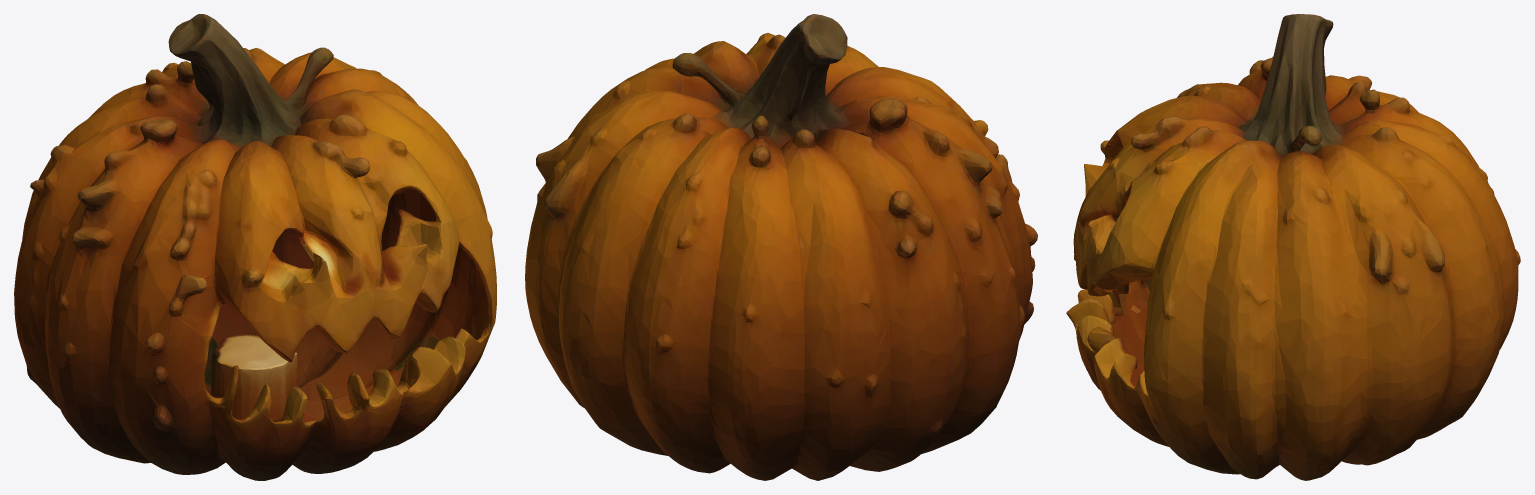
File: pumpkin_jackolantern_big_grin.glb
3 renders of one model, left to right at view 1: azimuth 30°, elevation 25°; view 2: azimuth 150°, elevation 25°; view 3: azimuth 270°, elevation 25°, orthographic. The views are drawn at different scales.
Visible parts, largest first — view 1: geometry_0; view 2: geometry_0; view 3: geometry_0.
Part boxes in pixels (bbox=[...]): geometry_0: bbox=[14, 14, 496, 480]; geometry_0: bbox=[525, 14, 1037, 480]; geometry_0: bbox=[1066, 14, 1520, 480].
Bounding box in the file's own units: 0.998 × 0.9514 × 0.9725.
Materials: 1 (1 with a texture image).
